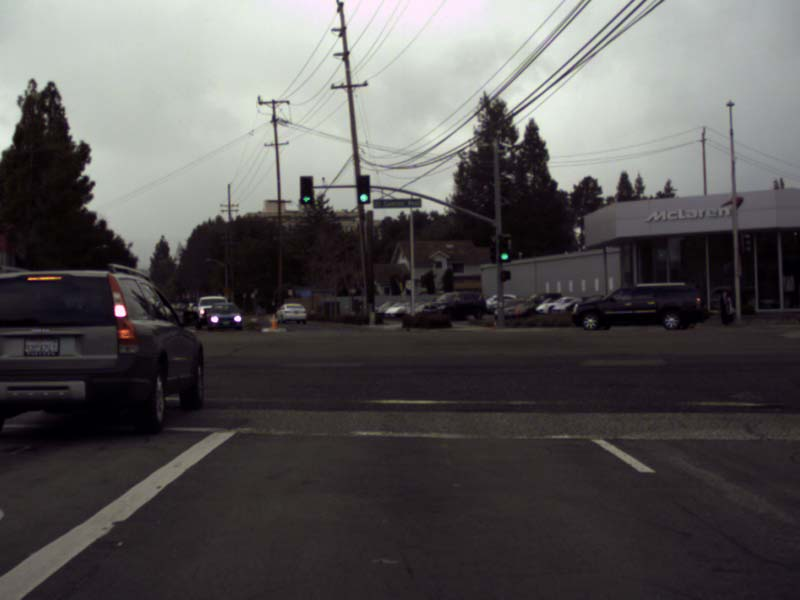Green: (300, 177, 312, 203), (357, 176, 369, 202), (499, 236, 509, 261)
